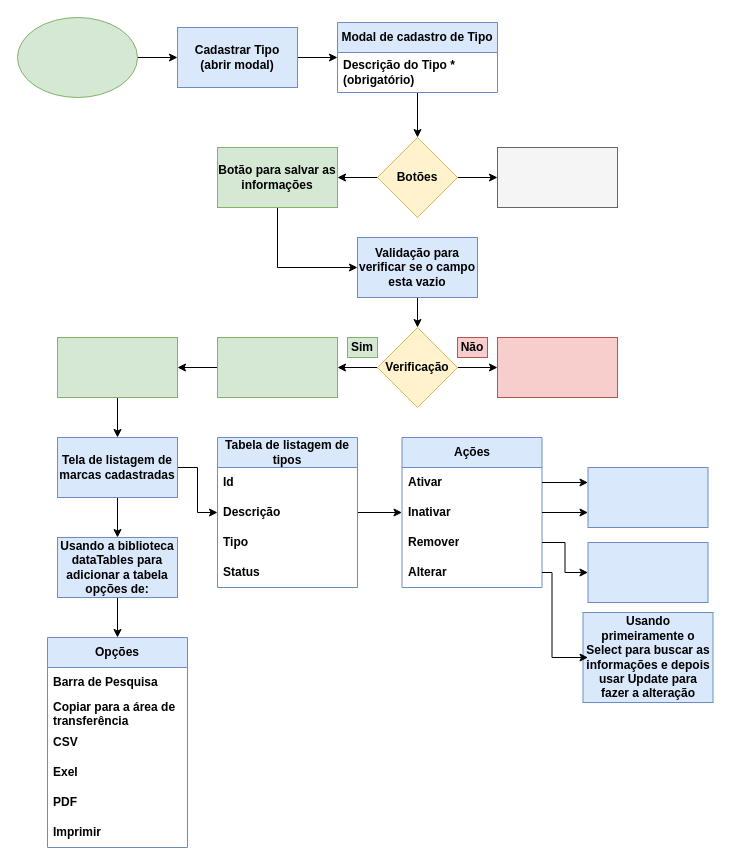
This 731x865 diagram has some shape labels left out. Each missing label, with the centre of its shape:
Alerta de tipo cadastrado: point (117, 367)
Alerta informando para preencher o campo obrigatório: point (557, 367)
Botão pra limpar o modal: point (557, 177)
Inicio: point (77, 57)
Insert da informação no banco de dados: point (277, 367)
Usando Delete na no Banco de dados: point (647, 572)
Usando Update na coluna Status no Banco de dados: point (647, 497)
